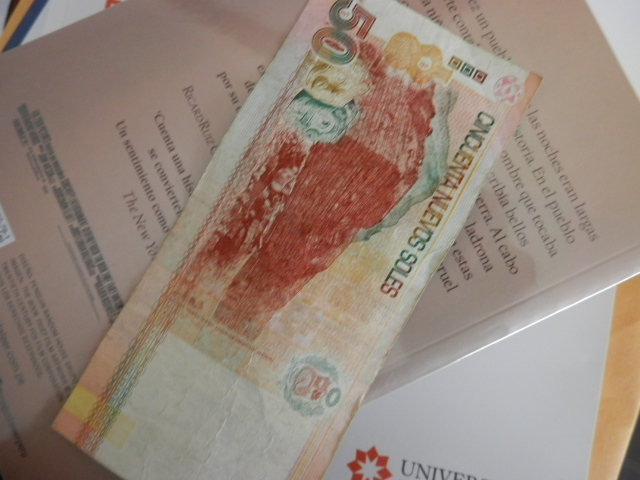B50: (107, 1, 552, 479)
